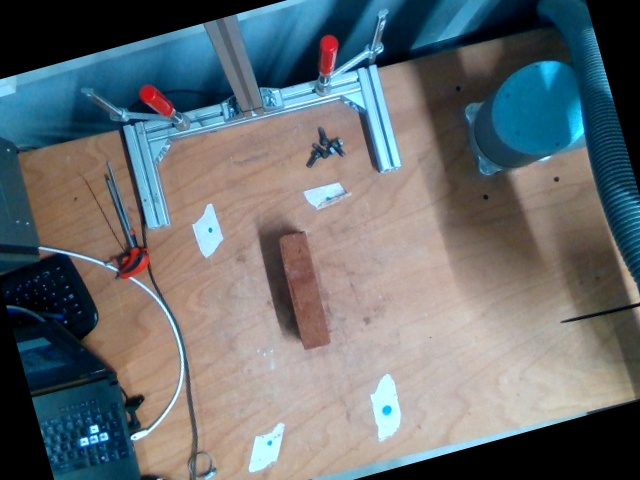brick-side: (276, 231, 331, 352)
